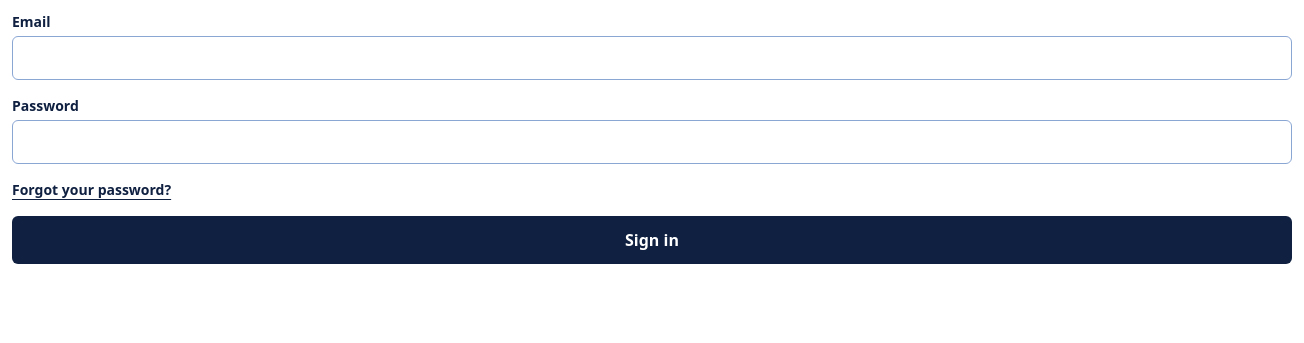
Test: LoginForm › shows a friendly alert for TOO_MANY_ATTEMPTS and does not navigate
Step 1. Type "ada@example.org" into the field labelled "Email" → (652, 58), box [12, 36, 1292, 80]
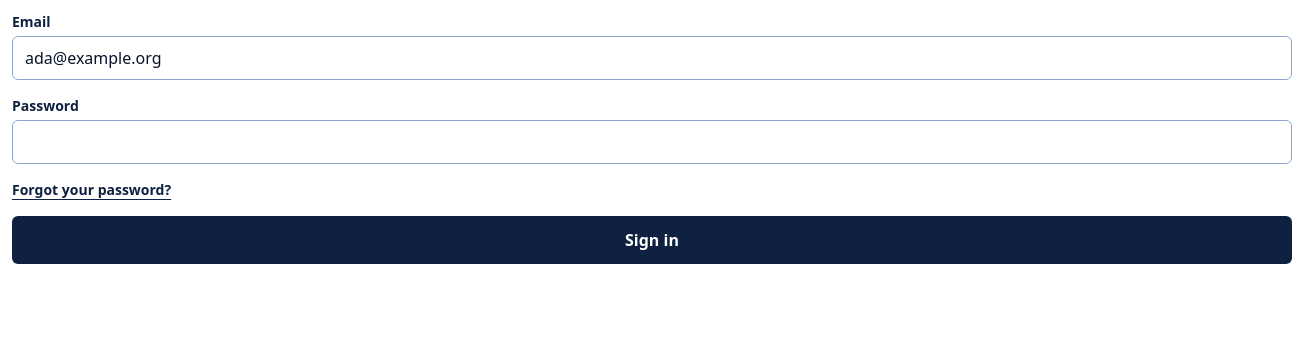
Step 2. Type "whatever-password-1" into the password field labelled "Password" → (652, 142), box [12, 120, 1292, 164]
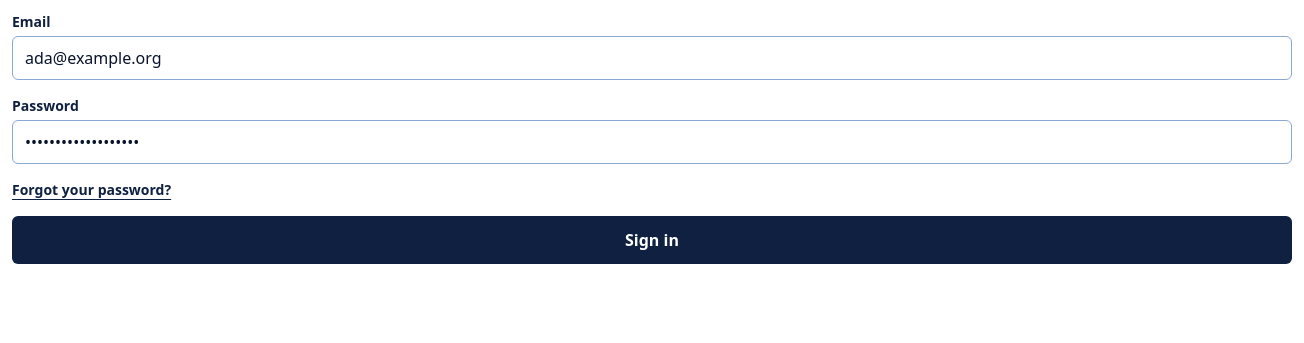
Step 3. Click the button "Sign in" → (652, 240), box [12, 216, 1292, 264]
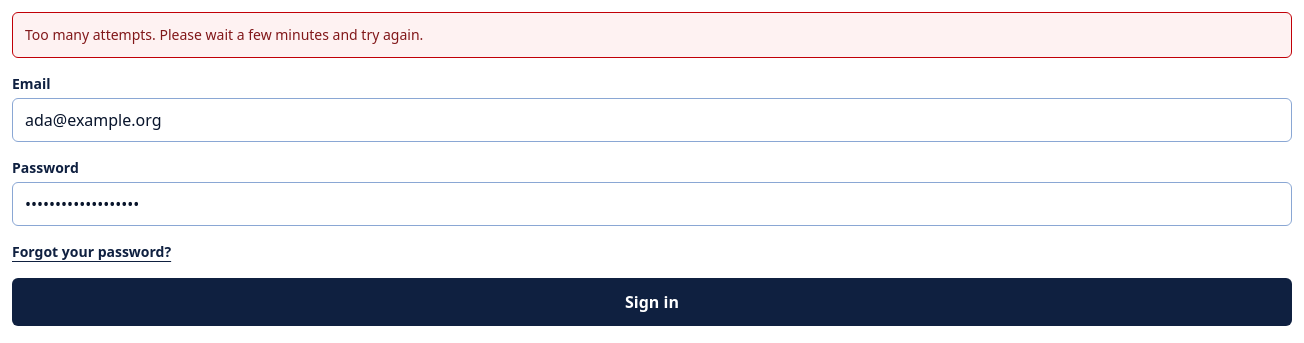
Expected: the message shows "Too many attempts", [25, 25, 423, 44]
